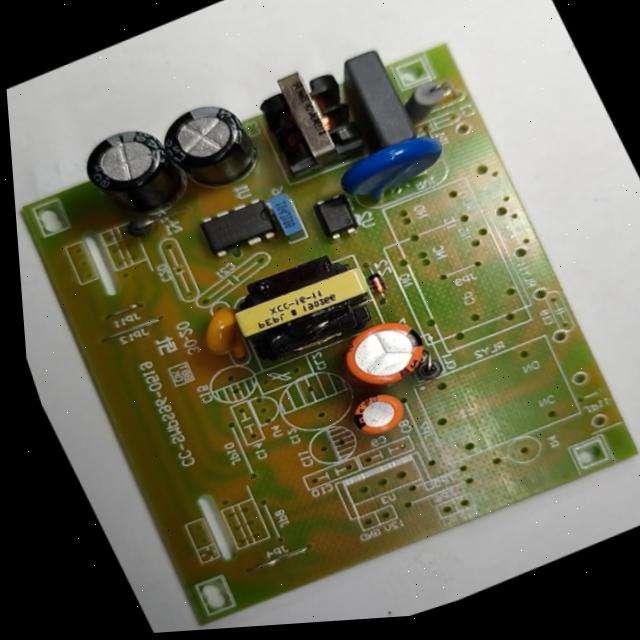Cap1: (328, 307, 440, 403)
Cap2: (344, 385, 414, 446)
Cap3: (152, 87, 269, 205)
Cap4: (71, 113, 194, 237)
MOSFET: (191, 194, 282, 266)
Mov: (327, 124, 463, 220)
Resistor: (396, 74, 462, 131)
Transformer: (218, 239, 390, 377), (244, 52, 376, 187)
